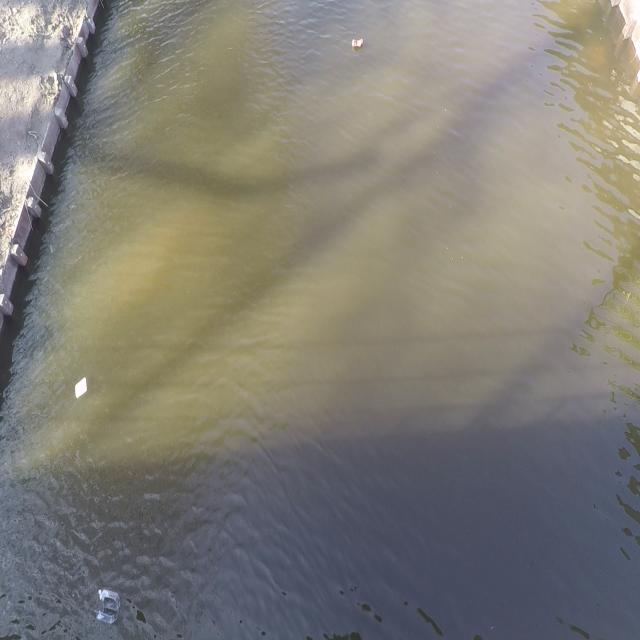Autre plastique: (73, 374, 91, 398)
Non plastique: (351, 37, 365, 52)
